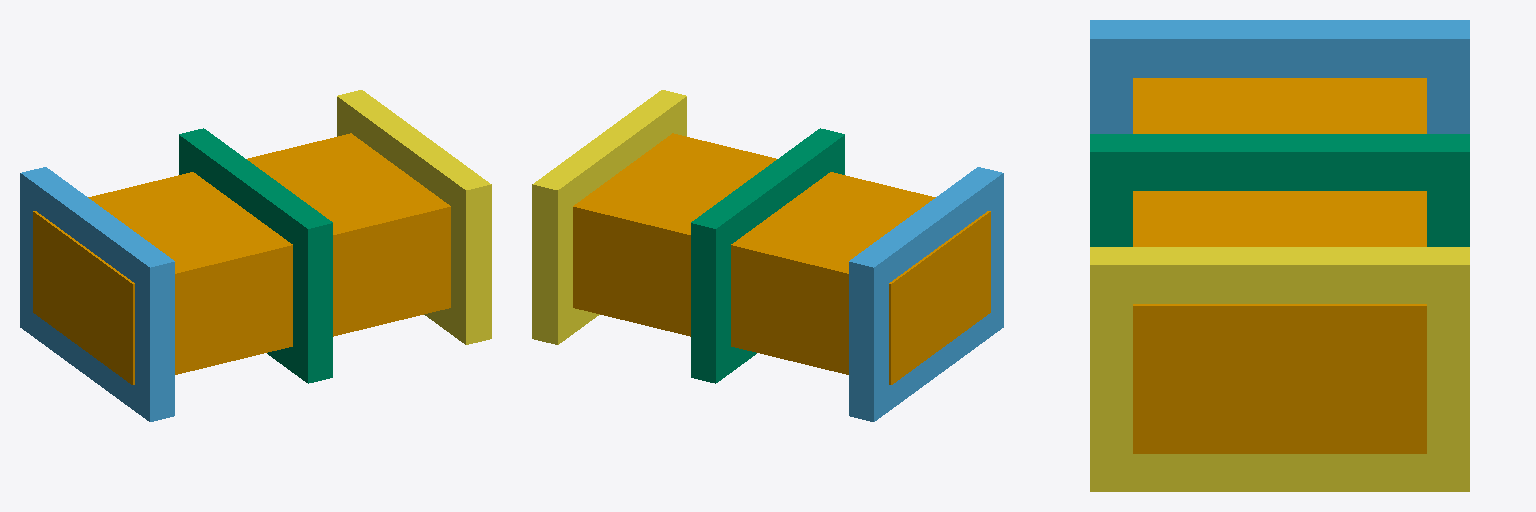
The robot description file, URDF, robot "debris008":
<?xml version="1.0" ?>
<robot name="debris008">

<link name="debris008">
<visual> <origin xyz="0 0 0" rpy="0 0 0" />
<geometry> <box size="0.68 0.34 0.19"/> </geometry>
</visual>
<collision> <origin xyz="0 0 0" rpy="0 0 0" />
<geometry> <box size="0.68 0.34 0.19"/> </geometry>
</collision>
<inertial> <origin xyz="0 0 0" rpy="0 0 0" />
<mass value="10.0" />
<inertia ixx="0.2729" ixy="0" ixz="0" iyy="0.2729" iyz="0" izz="0.2729" />
</inertial>
</link>
<gazebo reference="debris008"> <material>Gazebo/Granite</material> </gazebo>

<link name="debris0080">
<visual> <origin xyz="-0.31 0 0" rpy="0 0 0" />
<geometry> <box size="0.05 0.44 0.29"/> </geometry>
</visual>
<collision> <origin xyz="-0.31 0 0" rpy="0 0 0" />
<geometry> <box size="0.05 0.44 0.29"/> </geometry>
</collision>
<inertial> <origin xyz="0 0 0" rpy="0 0 0" />
<mass value="0.1" />
<inertia ixx="0.0100" ixy="0" ixz="0" iyy="0.0100" iyz="0" izz="0.0100" />
</inertial>
</link>
<gazebo reference="debris0080"> <material>Gazebo/Granite</material> </gazebo>

<joint name="debris0080joint" type="fixed">
<parent link="debris008"/>
<child link="debris0080"/>
<origin xyz="0 0 0" rpy="0 0 0" />
</joint>

<link name="debris0081">
<visual> <origin xyz="0.00 0 0" rpy="0 0 0" />
<geometry> <box size="0.05 0.44 0.29"/> </geometry>
</visual>
<collision> <origin xyz="0.00 0 0" rpy="0 0 0" />
<geometry> <box size="0.05 0.44 0.29"/> </geometry>
</collision>
<inertial> <origin xyz="0 0 0" rpy="0 0 0" />
<mass value="0.1" />
<inertia ixx="0.0100" ixy="0" ixz="0" iyy="0.0100" iyz="0" izz="0.0100" />
</inertial>
</link>
<gazebo reference="debris0081"> <material>Gazebo/Granite</material> </gazebo>

<joint name="debris0081joint" type="fixed">
<parent link="debris008"/>
<child link="debris0081"/>
<origin xyz="0 0 0" rpy="0 0 0" />
</joint>

<link name="debris0082">
<visual> <origin xyz="0.31 0 0" rpy="0 0 0" />
<geometry> <box size="0.05 0.44 0.29"/> </geometry>
</visual>
<collision> <origin xyz="0.31 0 0" rpy="0 0 0" />
<geometry> <box size="0.05 0.44 0.29"/> </geometry>
</collision>
<inertial> <origin xyz="0 0 0" rpy="0 0 0" />
<mass value="0.1" />
<inertia ixx="0.0100" ixy="0" ixz="0" iyy="0.0100" iyz="0" izz="0.0100" />
</inertial>
</link>
<gazebo reference="debris0082"> <material>Gazebo/Granite</material> </gazebo>

<joint name="debris0082joint" type="fixed">
<parent link="debris008"/>
<child link="debris0082"/>
<origin xyz="0 0 0" rpy="0 0 0" />
</joint>

</robot>

--- What the picture shows (computed from the rendered views, not written in the file) ---
3 views of the same robot in one strip: view 1: azimuth 30°, elevation 25°; view 2: azimuth 150°, elevation 25°; view 3: azimuth 270°, elevation 25° (orthographic).
Robot: debris008 — 4 links, 3 joints (3 fixed); root link debris008; default pose: every joint at zero.
Links seen in each view (by area): view 1: debris008, debris0080, debris0082, debris0081; view 2: debris008, debris0080, debris0082, debris0081; view 3: debris008, debris0082, debris0080, debris0081.
Boxes of the visible links, box(x1,y1,x2,y2) form: debris008: box(33, 133, 450, 384); debris0080: box(20, 167, 174, 421); debris0082: box(337, 90, 491, 344); debris0081: box(179, 128, 332, 383); debris008: box(573, 133, 990, 384); debris0080: box(849, 167, 1003, 421); debris0082: box(532, 90, 686, 344); debris0081: box(691, 128, 844, 383); debris008: box(1133, 78, 1426, 453); debris0082: box(1090, 247, 1469, 491); debris0080: box(1090, 20, 1469, 133); debris0081: box(1090, 134, 1469, 246).
Size in the robot's own frame: 0.68 by 0.44 by 0.29 metres.
Geometry: primitives only (box / cylinder / sphere), no mesh files.
